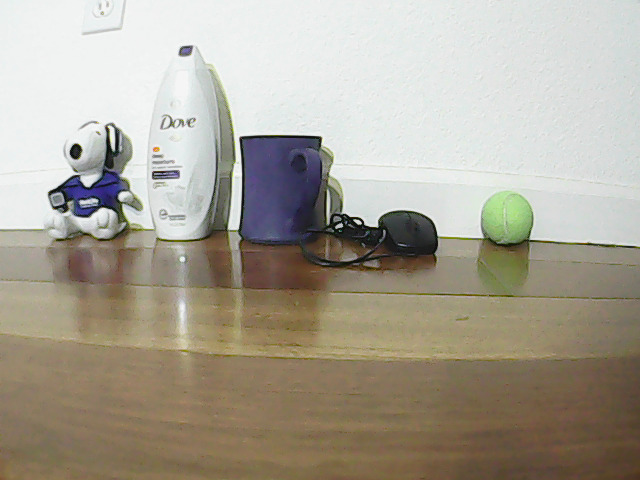ball: (476, 184, 562, 260)
mouse: (366, 205, 445, 261)
mug: (233, 130, 322, 241)
snoopy: (44, 100, 133, 242)
soap: (146, 31, 223, 240)
